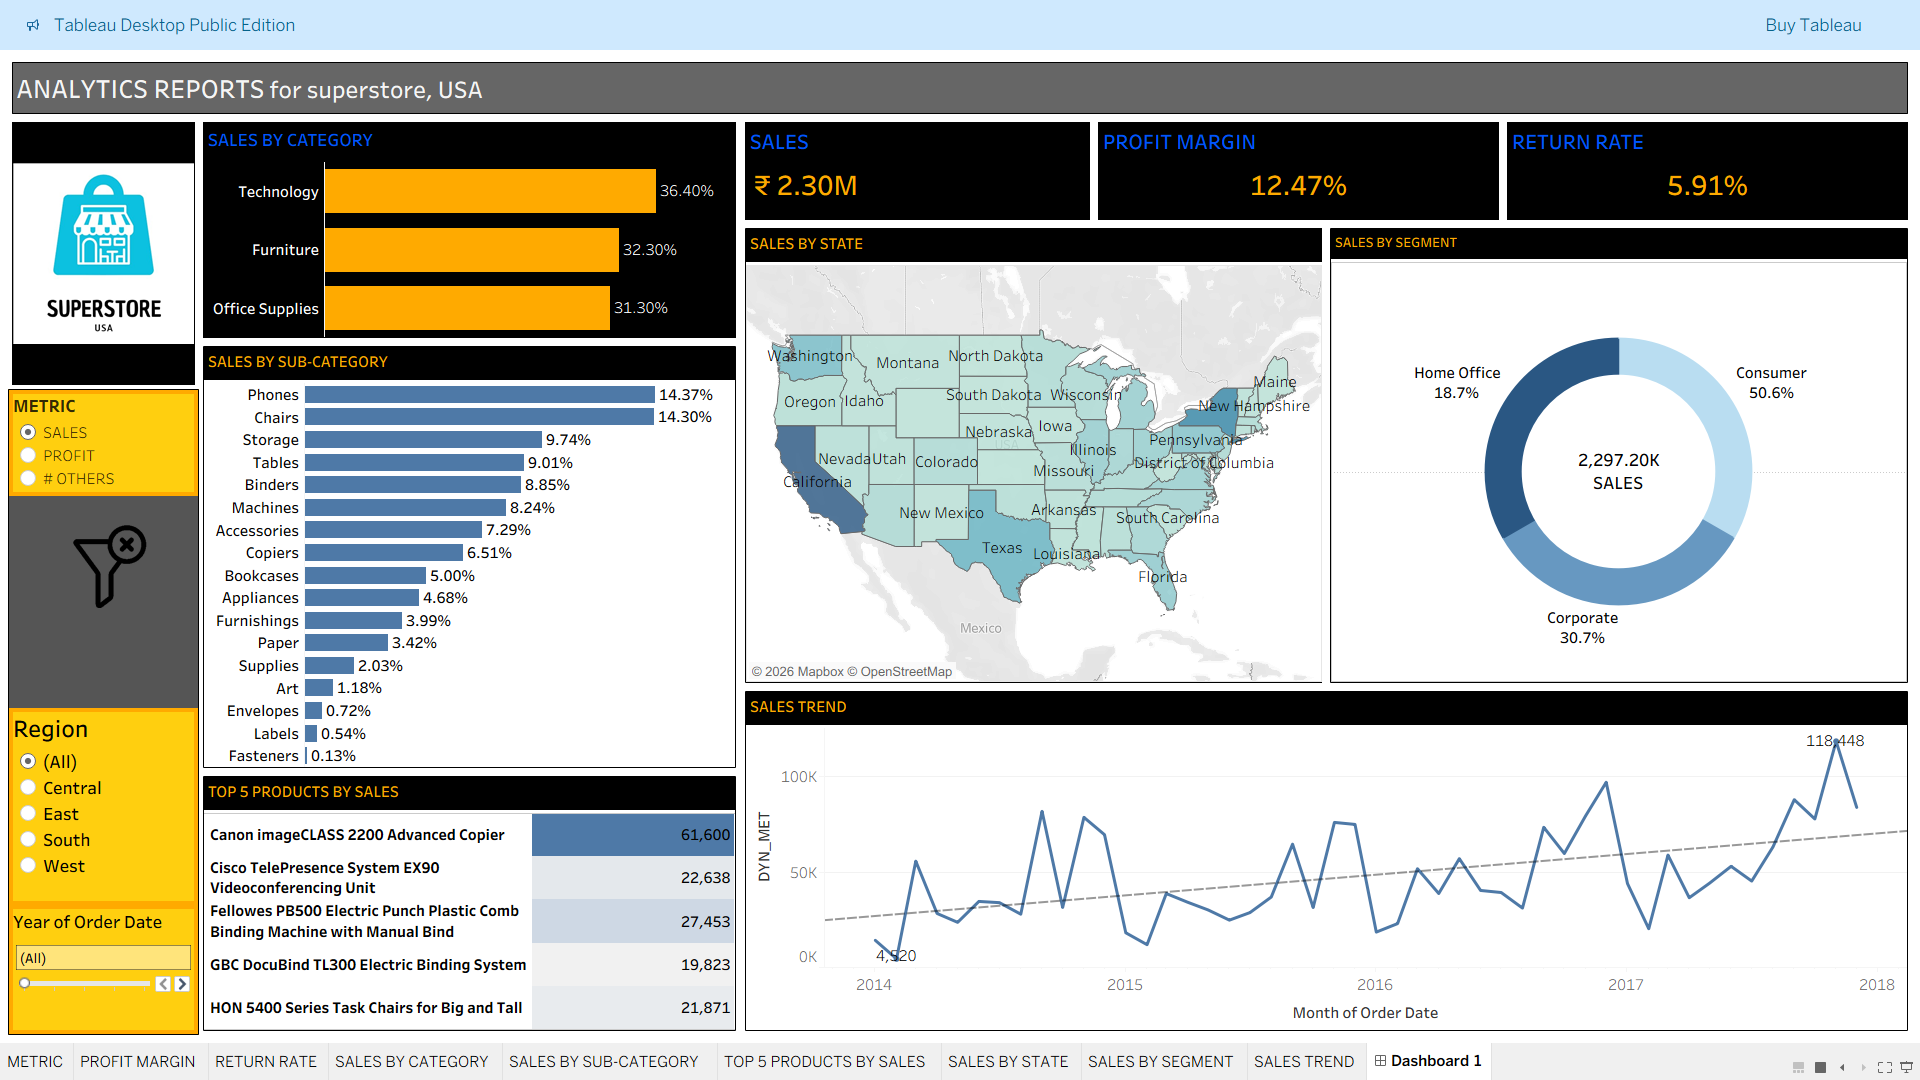

Layout of this report page (visuals, bound fields, positions):
{"tool":"tableau","page":{"name":"Dashboard 1","canvas":[1000,1000],"units":"permille","ordinal":0},"visuals":[{"type":"text","box":[4.8,10,990.3,59.9]},{"type":"image","param":"Image/LOGO.jpg","box":[4.8,69.9,99.5,271.9]},{"type":"worksheet","title":"SALES BY CATEGORY","mark":"Automatic","rows":["Category"],"cols":["Calculation_580119952679645184"],"box":[104.4,69.9,281.5,225]},{"type":"worksheet","title":"METRIC","mark":"Automatic","box":[385.9,69.9,183.9,106.6]},{"type":"worksheet","title":"PROFIT MARGIN","mark":"Automatic","box":[569.8,69.9,212.7,106.6]},{"type":"worksheet","title":"RETURN RATE","mark":"Automatic","box":[782.4,69.9,212.8,106.6]},{"type":"worksheet","title":"SALES BY STATE","mark":"Multipolygon","box":[385.9,176.5,304.6,464.1]},{"type":"worksheet","title":"SALES BY SEGMENT","mark":"Pie","rows":["Calculation_580401427941539841","Calculation_580401427941552131"],"box":[690.5,176.5,304.7,464.1]},{"type":"worksheet","title":"SALES BY SUB-CATEGORY ","mark":"Automatic","rows":["Sub-Category"],"cols":["Calculation_580119952679645184"],"box":[104.4,294.8,281.5,431.4]},{"type":"parameter","param":"[Parameters].[Parameter 1]","box":[5.4,343,98.4,132.3]},{"type":"dashboard-object","box":[32.6,478.2,48.9,83.7]},{"type":"filter","title":"METRIC","param":"[federated.18l8qyt1hl5r3d1cin1ln0cdfjo9].[none:Region:nk]","box":[5.4,581.8,98.4,246]},{"type":"worksheet","title":"SALES TREND","mark":"Automatic","rows":["Calculation_580119952679645184"],"cols":["Order Date"],"box":[385.9,640.6,609.3,349.4]},{"type":"worksheet","title":"TOP 5 PRODUCTS BY SALES","mark":"Square","rows":["Product Name"],"box":[104.4,726.2,281.5,263.8]},{"type":"filter","title":"METRIC","param":"[federated.18l8qyt1hl5r3d1cin1ln0cdfjo9].[yr:Order Date:ok]","box":[5.4,827.7,98.4,161.1]}]}

Visuals, with their boxes on the dashboard's canvas, which has no fixed pixel size, in thousandths of its width and height (x1, y1, x2, y2). These are canvas units, not pixel positions in the 1920x1080 screenshot, which may show the page scaled, cropped or inside an application window:
text: [left=5, top=10, right=995, bottom=70]
image: [left=5, top=70, right=104, bottom=342]
"SALES BY CATEGORY" worksheet: [left=104, top=70, right=386, bottom=295]
"METRIC" worksheet: [left=386, top=70, right=570, bottom=176]
"PROFIT MARGIN" worksheet: [left=570, top=70, right=782, bottom=176]
"RETURN RATE" worksheet: [left=782, top=70, right=995, bottom=176]
"SALES BY STATE" worksheet (Multipolygon marks): [left=386, top=176, right=690, bottom=641]
"SALES BY SEGMENT" worksheet (Pie marks): [left=690, top=176, right=995, bottom=641]
"SALES BY SUB-CATEGORY " worksheet: [left=104, top=295, right=386, bottom=726]
parameter: [left=5, top=343, right=104, bottom=475]
dashboard-object: [left=33, top=478, right=82, bottom=562]
"METRIC" filter: [left=5, top=582, right=104, bottom=828]
"SALES TREND" worksheet: [left=386, top=641, right=995, bottom=990]
"TOP 5 PRODUCTS BY SALES" worksheet (Square marks): [left=104, top=726, right=386, bottom=990]
"METRIC" filter: [left=5, top=828, right=104, bottom=989]
